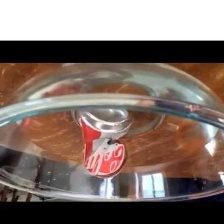can: (67, 100, 132, 182)
